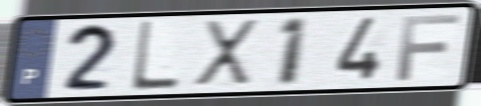1: (276, 15, 308, 88)
2: (59, 21, 121, 96)
4: (333, 14, 384, 85)
F: (394, 12, 464, 83)
L: (128, 19, 181, 94)
X: (190, 17, 262, 89)
